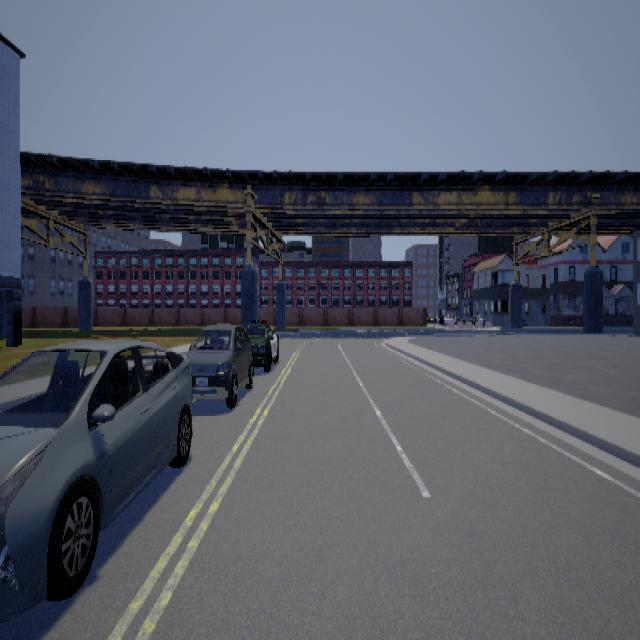vehicle: (0, 335, 193, 622), (185, 318, 251, 409), (241, 318, 282, 369)
